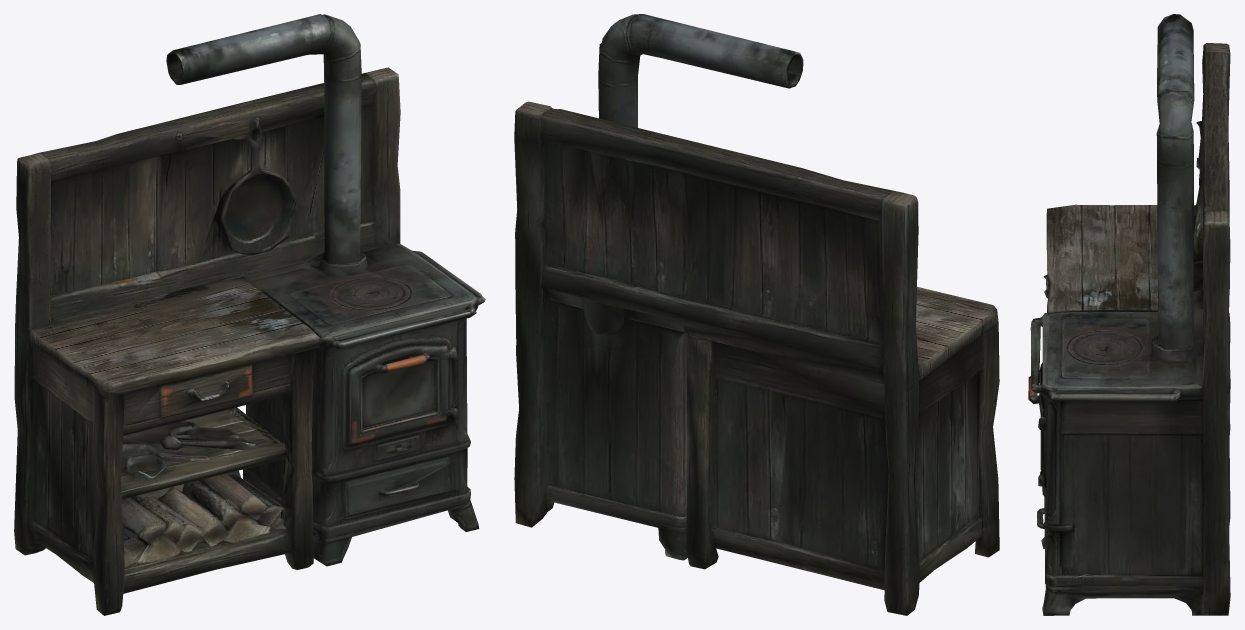
The model's file is kitchen.glb.
The picture shows the model from 3 angles, left to right: view 1: azimuth 30°, elevation 25°; view 2: azimuth 150°, elevation 25°; view 3: azimuth 270°, elevation 25°; orthographic projection. The views are drawn at different scales.
Parts seen in each view (by area): view 1: Mesh_0; view 2: Mesh_0; view 3: Mesh_0.
Part boxes in pixels (x1=…): Mesh_0: x1=14, y1=14, x2=485, y2=615; Mesh_0: x1=514, y1=14, x2=999, y2=615; Mesh_0: x1=1028, y1=14, x2=1230, y2=615.
Bounding box in the file's own units: 1.57 × 1.9 × 0.7156.
1 material, 1 textured.
